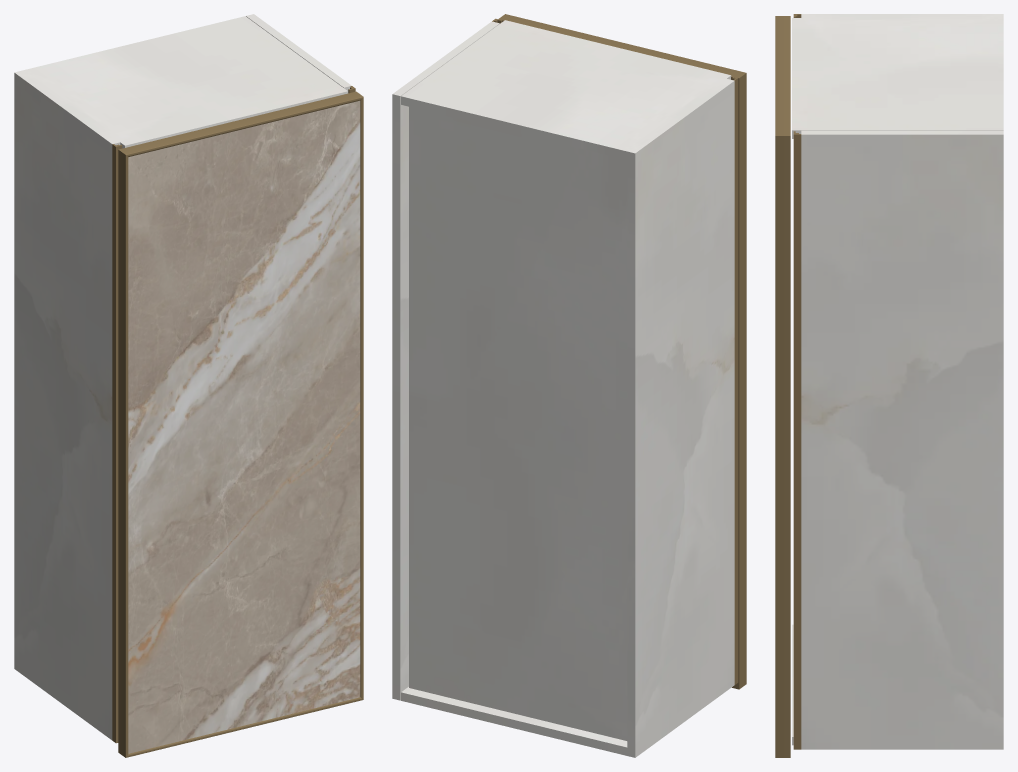
The model's file is WC-SH-NHX-ST-3SG-LHS-XXX-450-1085-336-15.glb.
3 views of the same model, side by side, from view 1: azimuth 30°, elevation 25°; view 2: azimuth 150°, elevation 25°; view 3: azimuth 270°, elevation 25° (orthographic). The views are drawn at different scales.
Visible parts, largest first — view 1: Object_node_10, TP_node_0, TP, Extrusion_node_1, Object_node_12, Extrusion, Extrusion_node, Extrusion_node_0, TP_node_1; view 2: TP_node_2, TP_node_0, TP, TP_node_1, Extrusion_node_1, TP_node, Object_node_12, Extrusion; view 3: TP_node_1, TP, Extrusion_node, Object_node_18, Extrusion, TP_node_0.
Part boxes in pixels (<box>): Object_node_10: <box>128,100,360,753</box>; TP_node_0: <box>14,70,120,740</box>; TP: <box>22,16,347,148</box>; Extrusion_node_1: <box>118,150,128,757</box>; Object_node_12: <box>112,144,122,743</box>; Extrusion: <box>118,91,363,156</box>; Extrusion_node: <box>360,97,363,699</box>; Extrusion_node_0: <box>126,697,363,757</box>; TP_node_1: <box>246,14,351,93</box>; TP_node_2: <box>409,107,627,740</box>; TP_node_0: <box>627,78,734,757</box>; TP: <box>401,20,731,159</box>; TP_node_1: <box>392,21,499,700</box>; Extrusion_node_1: <box>735,73,746,689</box>; TP_node: <box>401,687,627,755</box>; Object_node_12: <box>731,76,738,684</box>; Extrusion: <box>498,14,745,78</box>; TP_node_1: <box>801,130,1003,749</box>; TP: <box>792,18,1003,138</box>; Extrusion_node: <box>775,136,790,757</box>; Object_node_18: <box>793,131,801,749</box>; Extrusion: <box>775,16,790,135</box>; TP_node_0: <box>801,14,1003,17</box>.
Size of what is drawn, in the model's own units: 0.45 by 1.09 by 0.3602.
6 materials, 2 textured.
